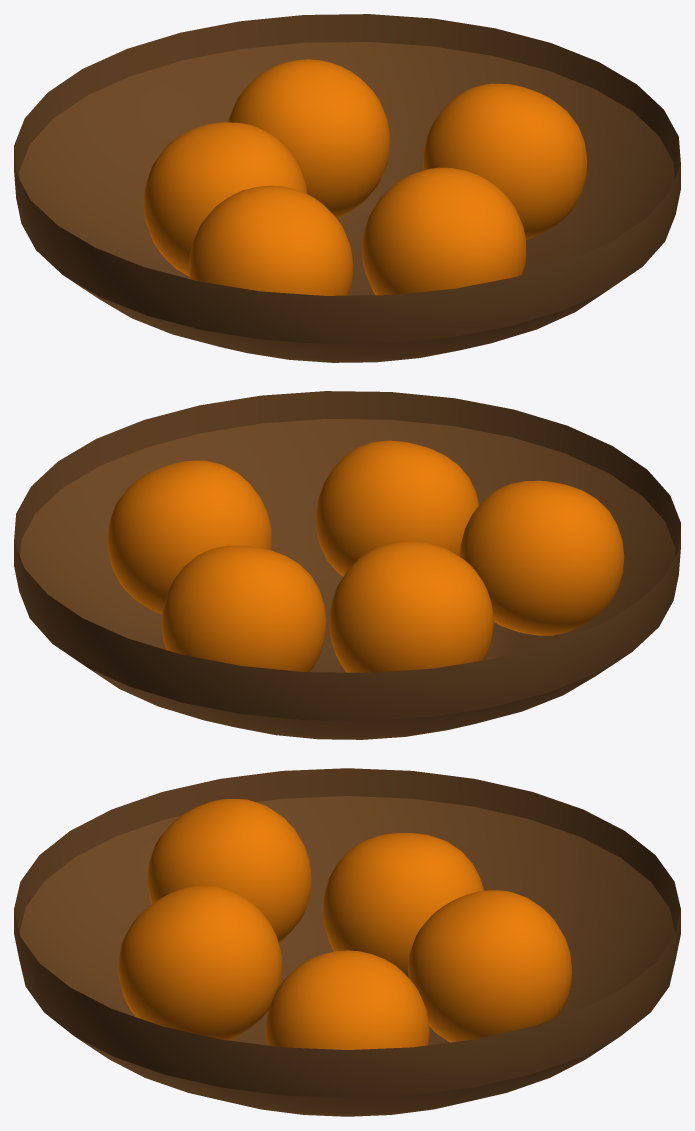
Rendered from PlateWithOranges.fbx.
The picture shows the model from 3 angles, top to bottom: view 1: azimuth 30°, elevation 25°; view 2: azimuth 150°, elevation 25°; view 3: azimuth 270°, elevation 25°; orthographic projection.
Visible parts, largest first — view 1: Plate with oranges; view 2: Plate with oranges; view 3: Plate with oranges.
Part boxes in pixels (x1,y1,x2,y2): Plate with oranges: [14, 14, 680, 362]; Plate with oranges: [14, 391, 680, 739]; Plate with oranges: [14, 768, 680, 1116].
Size of the model in its own units: 52.2 by 15.59 by 52.2.
